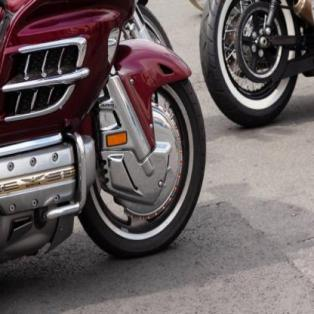Motocicleta: (0, 0, 205, 281)
